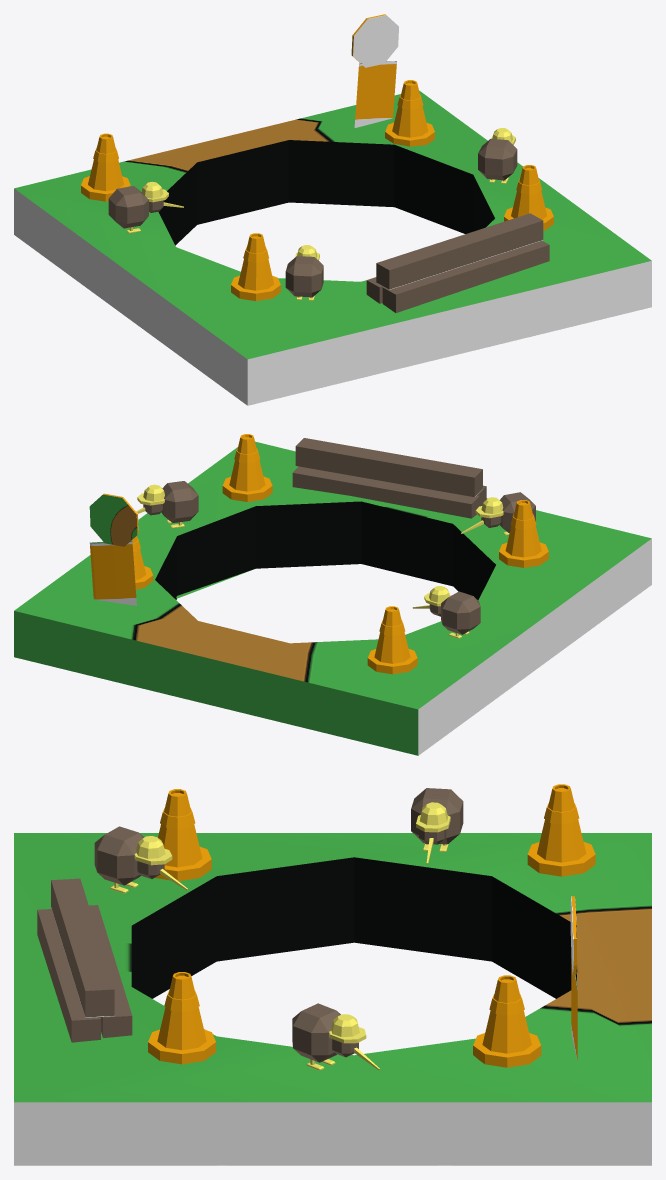
File: Construction piece.fbx
3 views of the same model, one above another, from view 1: azimuth 30°, elevation 25°; view 2: azimuth 150°, elevation 25°; view 3: azimuth 270°, elevation 25° (orthographic). The views are drawn at different scales.
Parts seen in each view (by area): view 1: Construction_piece, Wood_Piece2, Kiwi_body (×3), Wood_Piece1, Pole, Cone1, Cone3, Stop_sign, Cone, Cone2; view 2: Construction_piece, Wood_Piece2, Wood_Piece, Kiwi_body (×3), Pole, Cone, Cone2, Cone1, Stop_sign, Cone3; view 3: Construction_piece, Kiwi_body (×3), Wood_Piece2, Cone3, Cone, Cone2, Wood_Piece1, Cone1, Hard_Hat (×3), Wood_Piece.
Boxes of the visible parts, x1,y1,x2,y2 form: Construction_piece: (14,90,651,405); Wood_Piece2: (376,213,543,289); Kiwi_body (×3): (108,138,517,297); Wood_Piece1: (382,240,549,312); Pole: (354,61,396,127); Cone1: (231,233,280,301); Cone3: (385,80,434,146); Stop_sign: (351,14,398,67); Cone: (81,133,130,201); Cone2: (504,165,553,230); Construction_piece: (14,441,651,755); Wood_Piece2: (295,438,482,497); Wood_Piece: (292,466,479,518); Kiwi_body (×3): (161,481,535,634); Pole: (89,541,136,605); Cone: (367,606,417,674); Cone2: (222,434,272,501); Cone1: (499,500,548,567); Stop_sign: (89,493,138,546); Cone3: (131,536,153,589); Construction_piece: (14,833,651,1165); Kiwi_body (×3): (94,788,463,1062); Wood_Piece2: (51,878,114,1017); Cone3: (473,975,541,1067); Cone: (527,784,595,876); Cone2: (148,972,215,1064); Wood_Piece1: (37,909,100,1042); Cone1: (155,789,211,881); Hard_Hat (×3): (134,802,450,1043); Wood_Piece: (89,905,132,1037).
Size of the model in its own units: 10.64 by 4.18 by 10.65.
